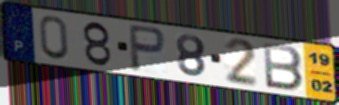0: (37, 14, 70, 61)
2: (222, 37, 260, 89)
8: (175, 33, 209, 78), (81, 20, 113, 67)
B: (261, 40, 306, 93)
P: (126, 23, 168, 74)
